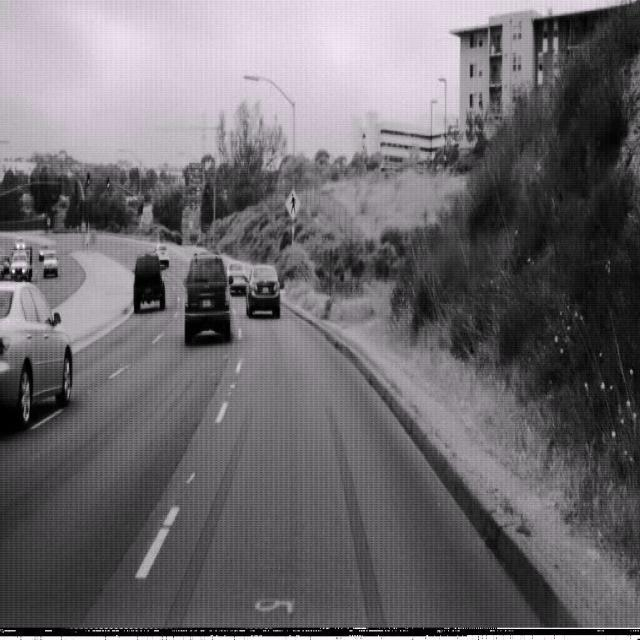pedestrianCrossing: (283, 185, 302, 221)
